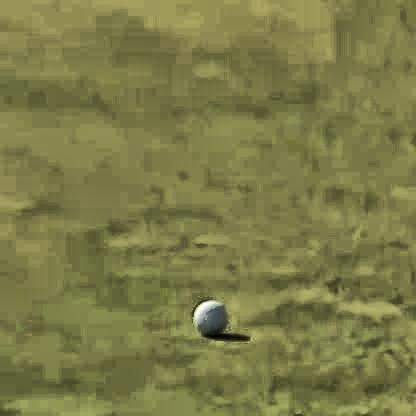golfball: (189, 291, 225, 333)
